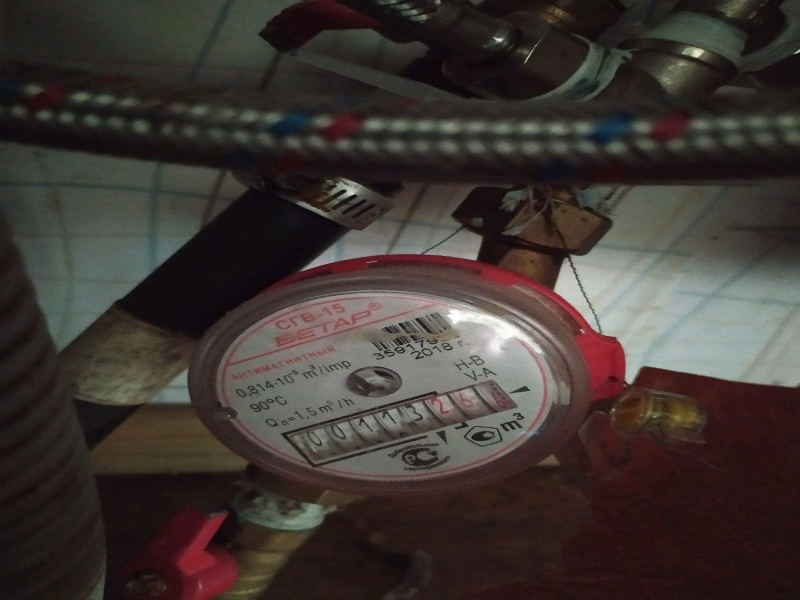meter: (295, 391, 515, 455)
